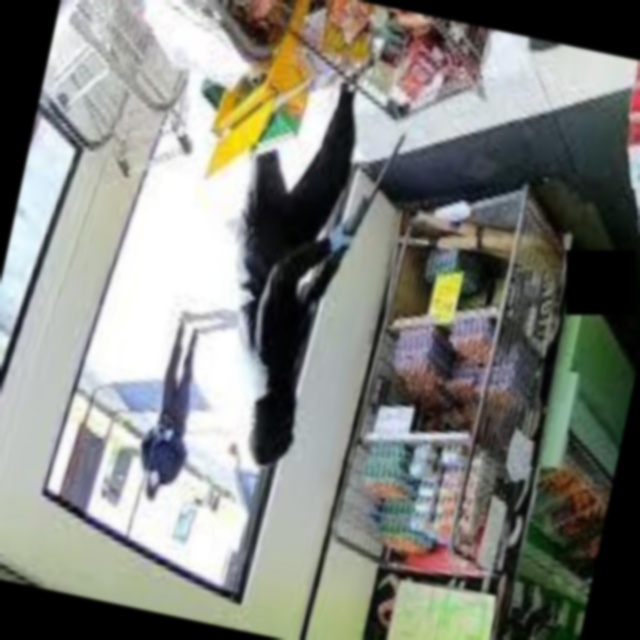gun: (294, 125, 410, 336)
